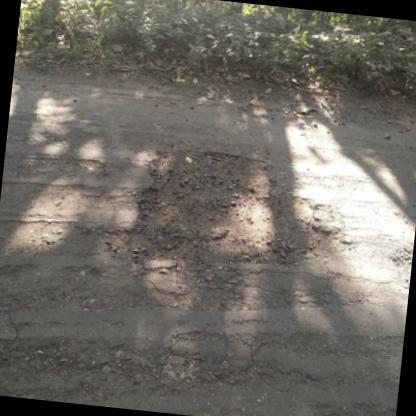pothole: (121, 142, 341, 268), (4, 338, 268, 384)
